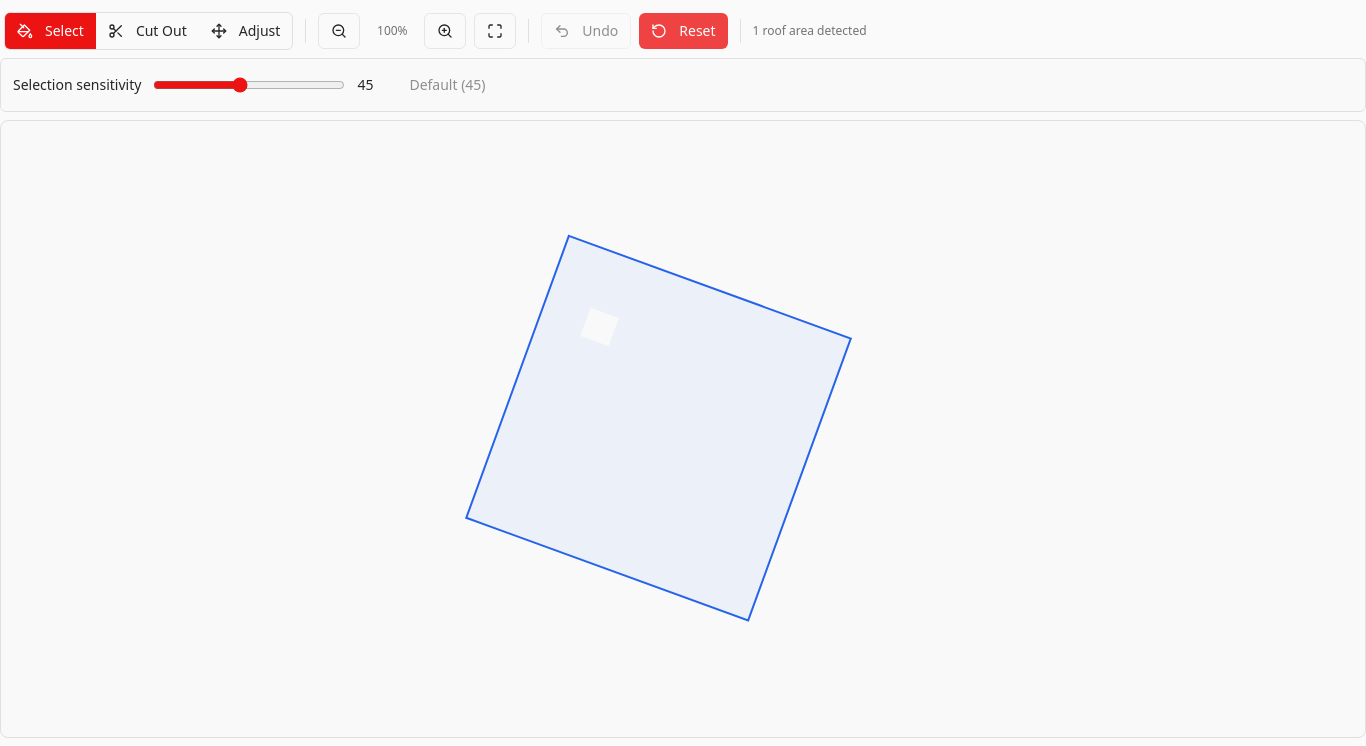
Test: reconnects to a clicked outline vertex despite a nearby mismatched PDF endpoint
Later steps or results of the test are not shown.
Step 1. Click the button "Adjust" → (246, 31), box [199,13,292,49]
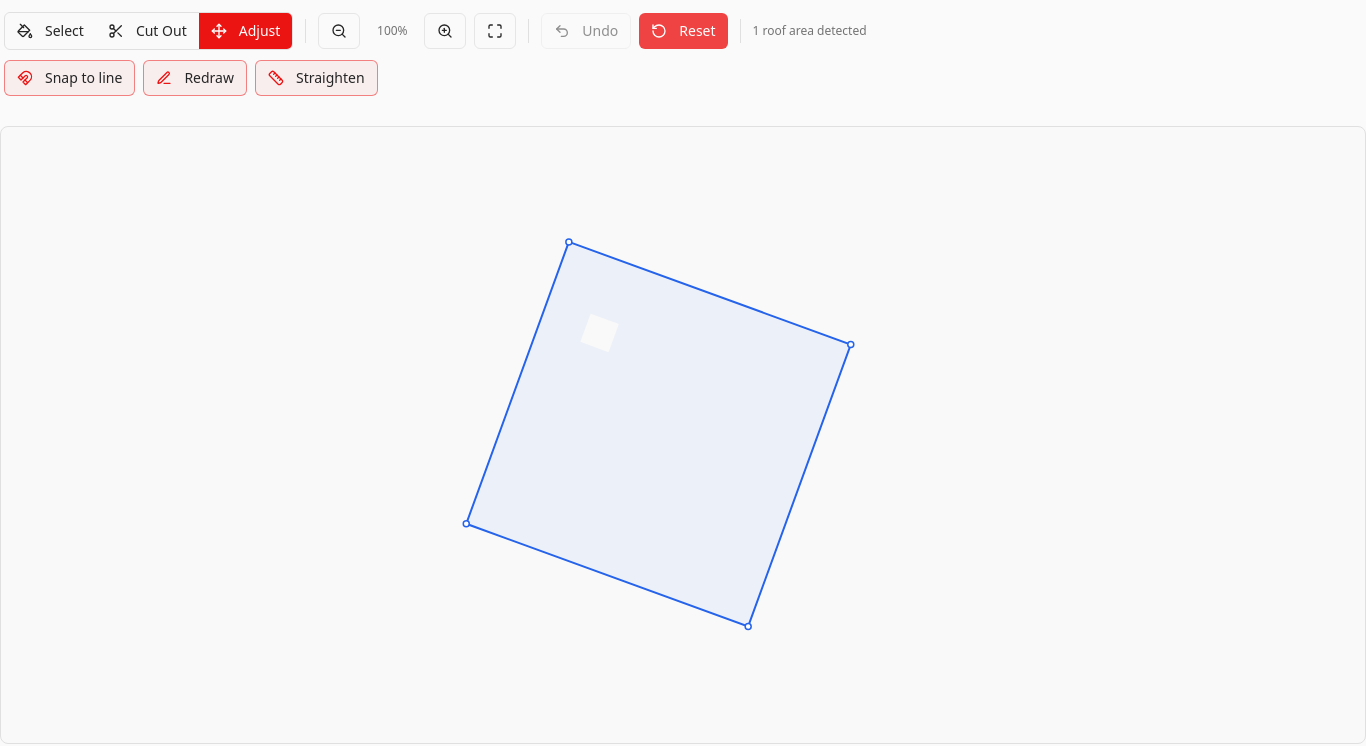
Step 2. Click the button "Redraw" → (195, 78), box [143,60,247,96]
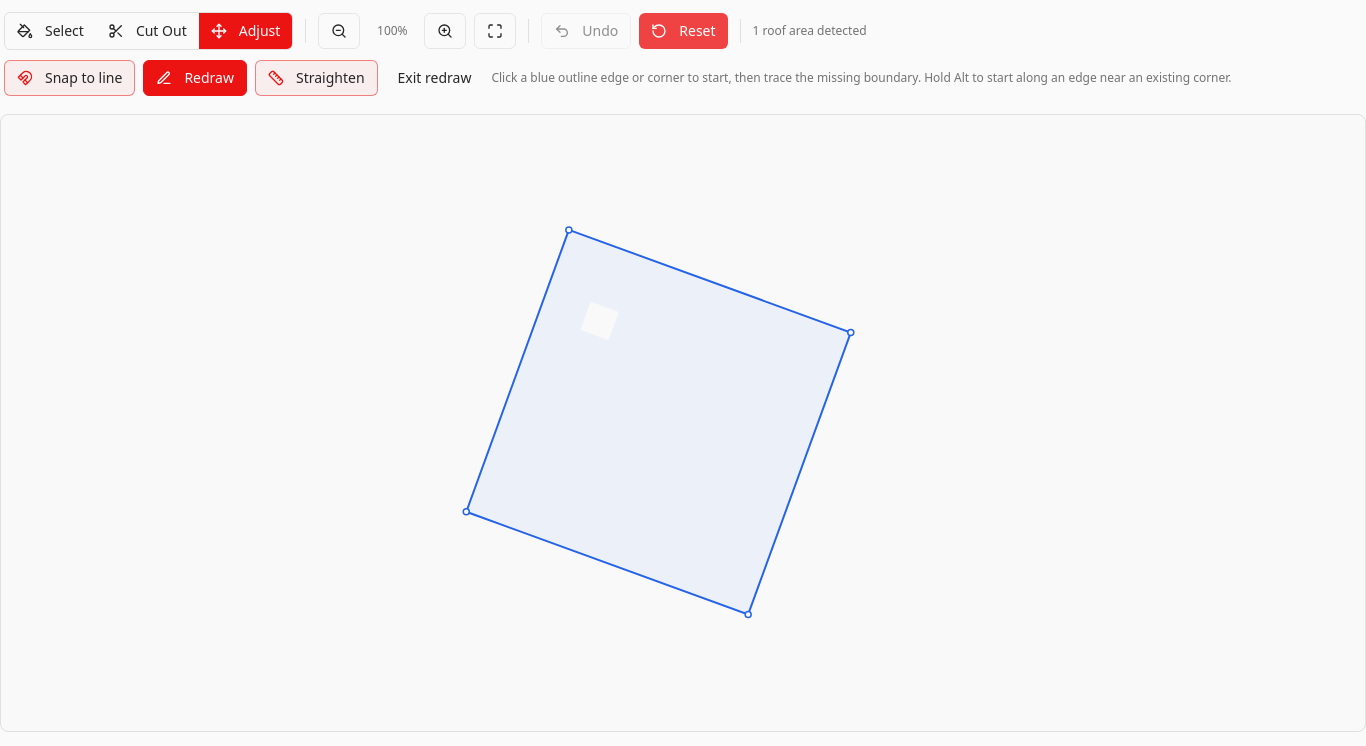
Step 3. Press the mouse on the icon with test id "polyline-redraw-overlay" → (683, 423), box [308,123,1058,723]
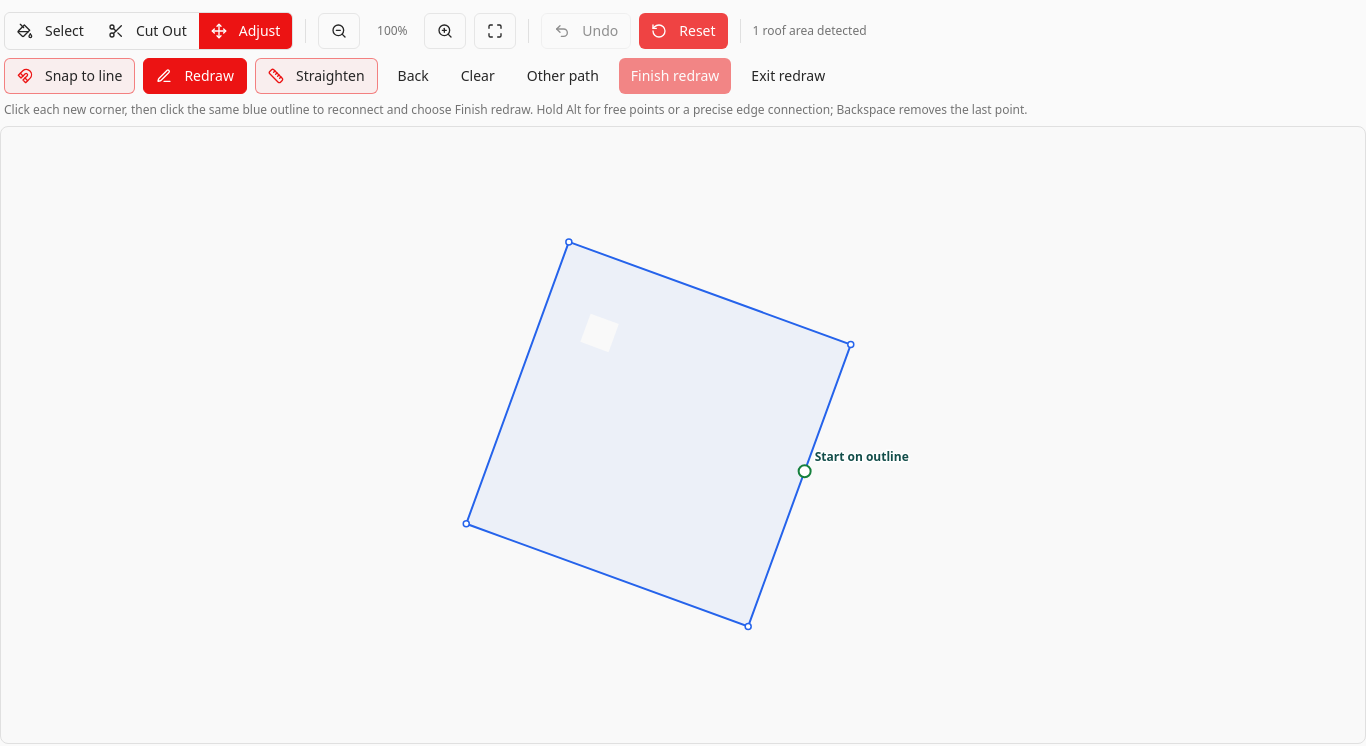
Step 4. Press the mouse on the icon with test id "polyline-redraw-overlay" → (683, 435), box [308,135,1058,735]
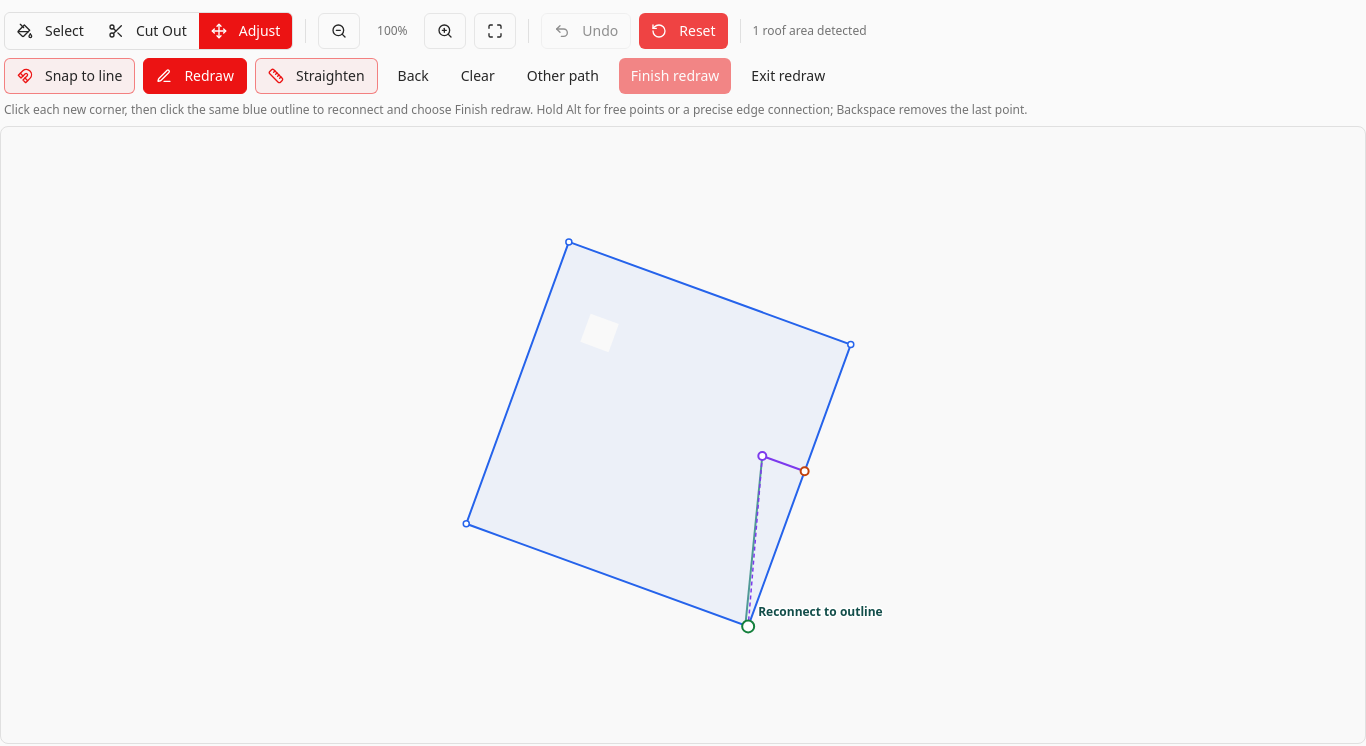
Step 5. Press the mouse on the icon with test id "polyline-redraw-overlay" → (683, 435), box [308,135,1058,735]
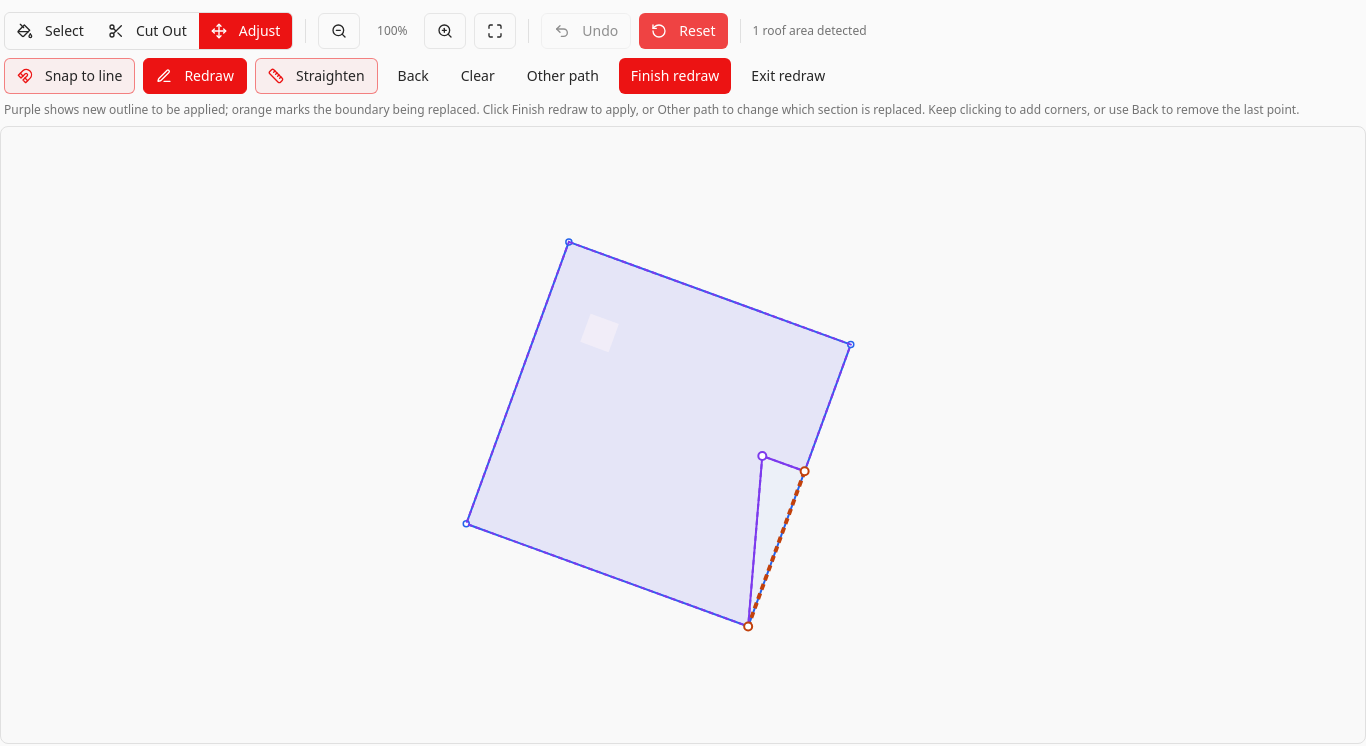
Expected: the button "Finish redraw" is enabled, [619,58,731,94]
